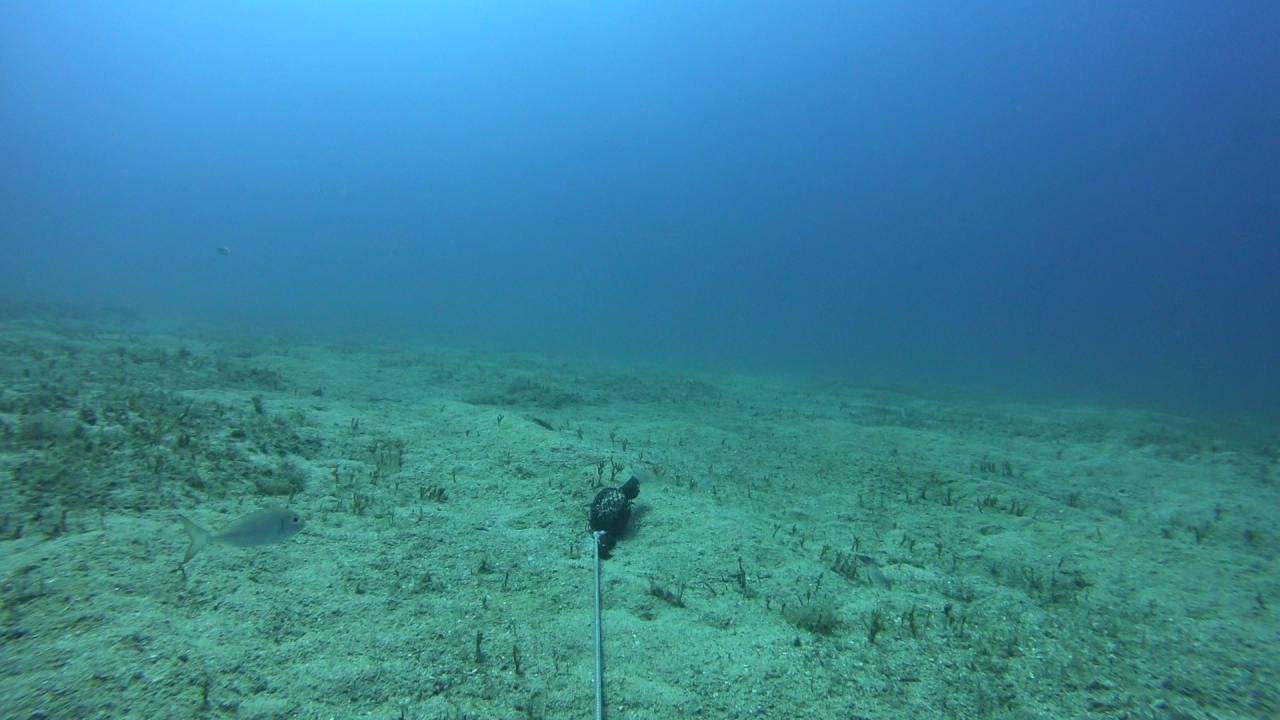pagellus: (178, 504, 307, 563)
